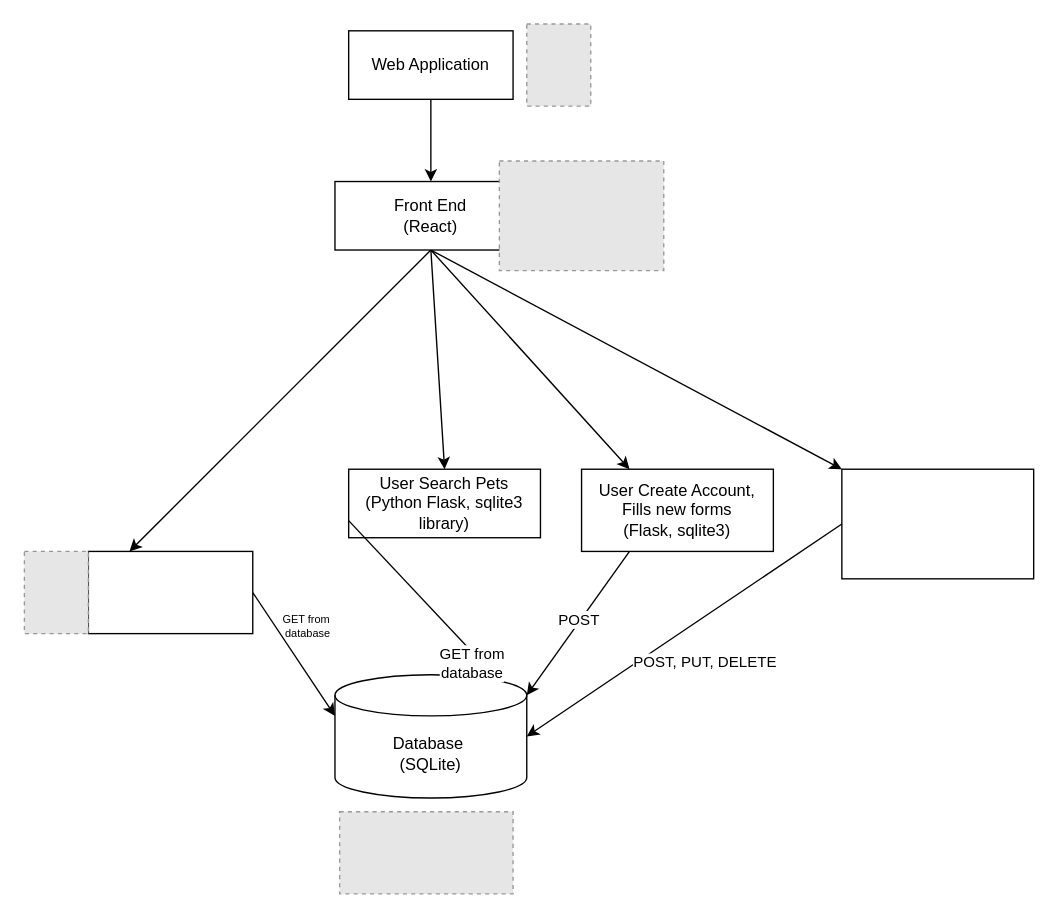
This 1058x918 diagram has some shape labels left out. Grey dashed boxes stand in for pictures. The shapes that lost their labels are listed below. From the top down, each one's centre as x and y in pixels, then its label:
the point at 937,523: Management Edit/Create/Delete Pet information (flask,sqlite3)
the point at 170,592: Authentication (Python flask, sqlite3 library)
